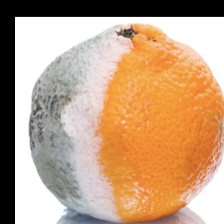orange: (5, 37, 192, 193)
